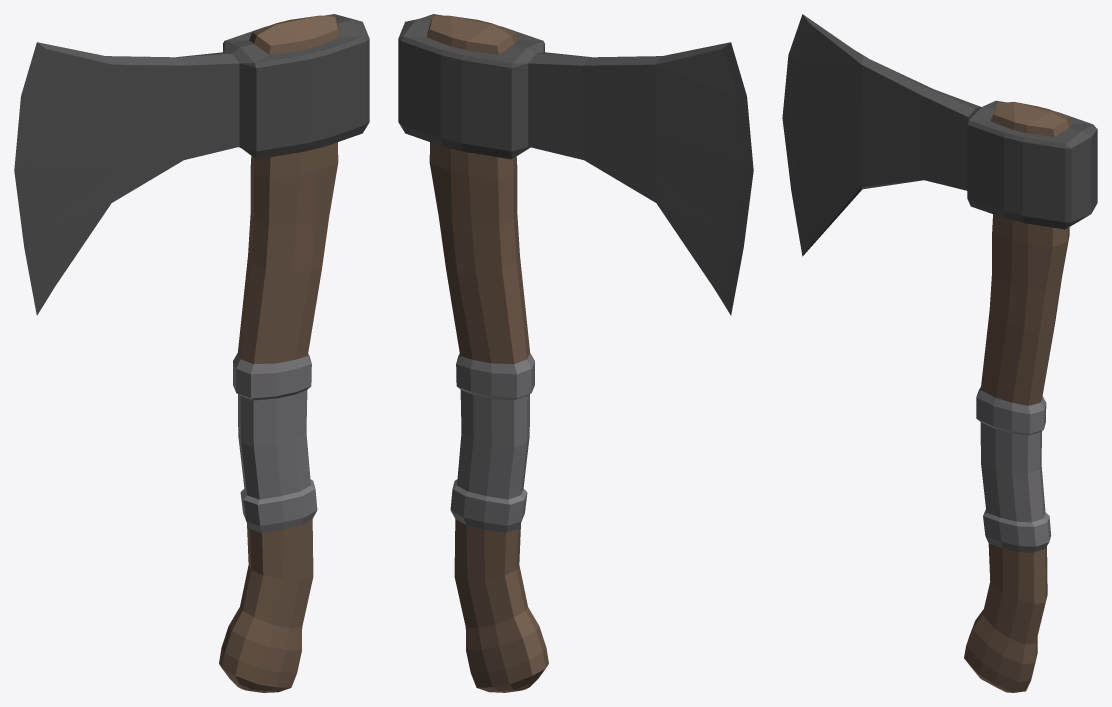
Rendered from Axe_Lowpoly.fbx.
3 renders of one model, left to right at view 1: azimuth 30°, elevation 25°; view 2: azimuth 150°, elevation 25°; view 3: azimuth 330°, elevation 25°, orthographic. The views are drawn at different scales.
Parts seen in each view (by area): view 1: Cube; view 2: Cube; view 3: Cube.
Boxes of the visible parts, x1=… form: Cube: x1=14, y1=14, x2=369, y2=692; Cube: x1=398, y1=14, x2=753, y2=692; Cube: x1=782, y1=14, x2=1097, y2=692.
Bounding box in the file's own units: 431 × 834 × 89.79.
